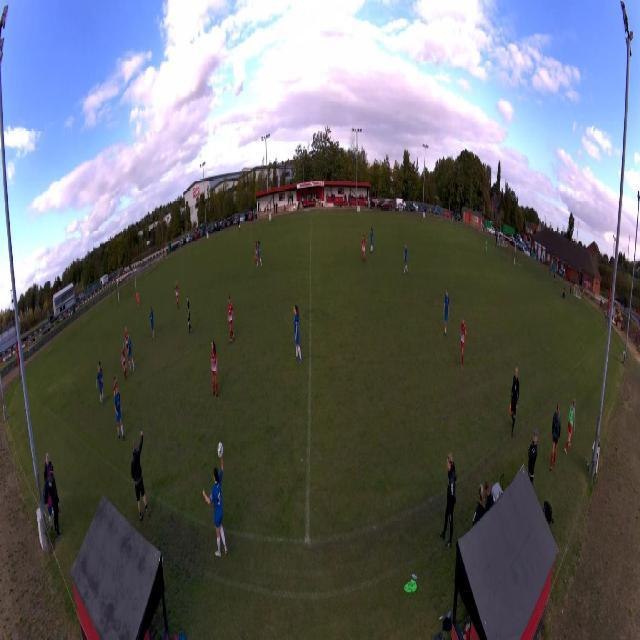ball: (217, 441, 223, 459)
player: (204, 473, 230, 564), (114, 387, 125, 442), (293, 303, 302, 365), (210, 341, 218, 399), (227, 296, 235, 344), (96, 367, 105, 407), (460, 317, 466, 371), (443, 289, 449, 338), (128, 335, 135, 373), (186, 296, 192, 334), (121, 343, 127, 381), (98, 362, 104, 397), (149, 307, 155, 341), (256, 240, 262, 270), (125, 327, 130, 363), (403, 243, 408, 275), (362, 235, 367, 264), (113, 375, 118, 403), (175, 280, 179, 310), (254, 240, 258, 266), (370, 227, 374, 253), (136, 290, 140, 310), (485, 238, 488, 257)
